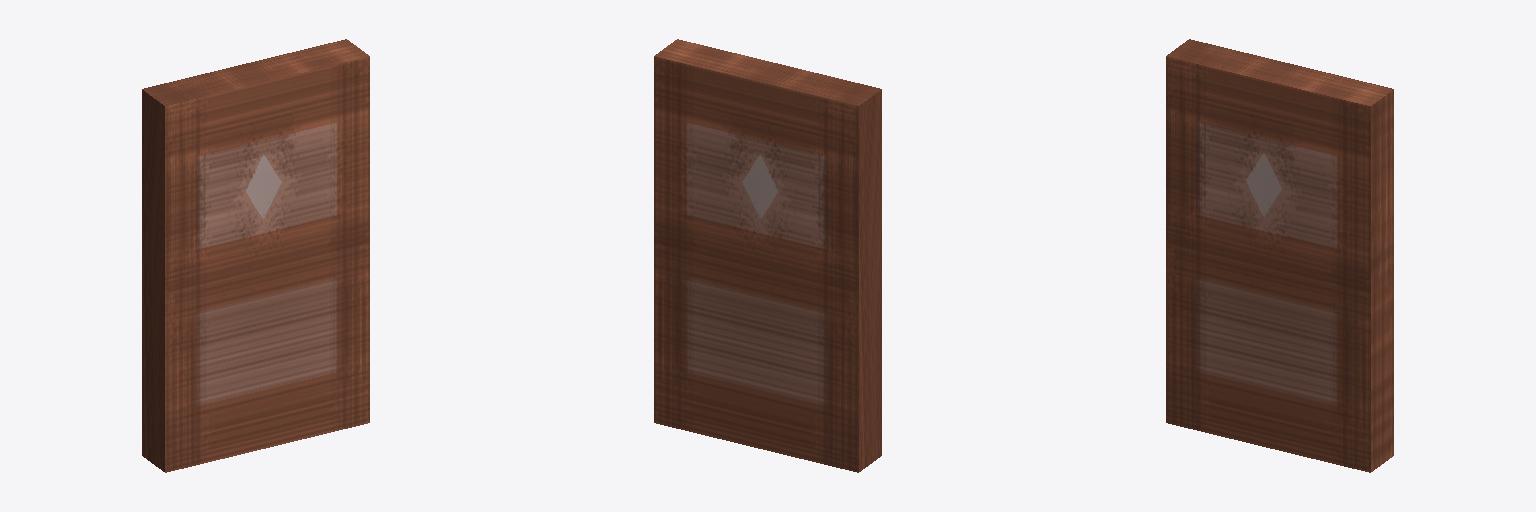
3 renders of one model, left to right at view 1: azimuth 30°, elevation 25°; view 2: azimuth 150°, elevation 25°; view 3: azimuth 330°, elevation 25°, orthographic.
Parts seen in each view (by area): view 1: puertaTras:pCube65; view 2: puertaTras:pCube65; view 3: puertaTras:pCube65.
Part boxes in pixels (left/top/right/bottom): puertaTras:pCube65: left=142, top=39, right=369, bottom=472; puertaTras:pCube65: left=654, top=39, right=881, bottom=472; puertaTras:pCube65: left=1166, top=39, right=1393, bottom=472.
Size of the model in its own units: 0.2495 by 0.426 by 0.05.
Materials: 1 (1 with a texture image).